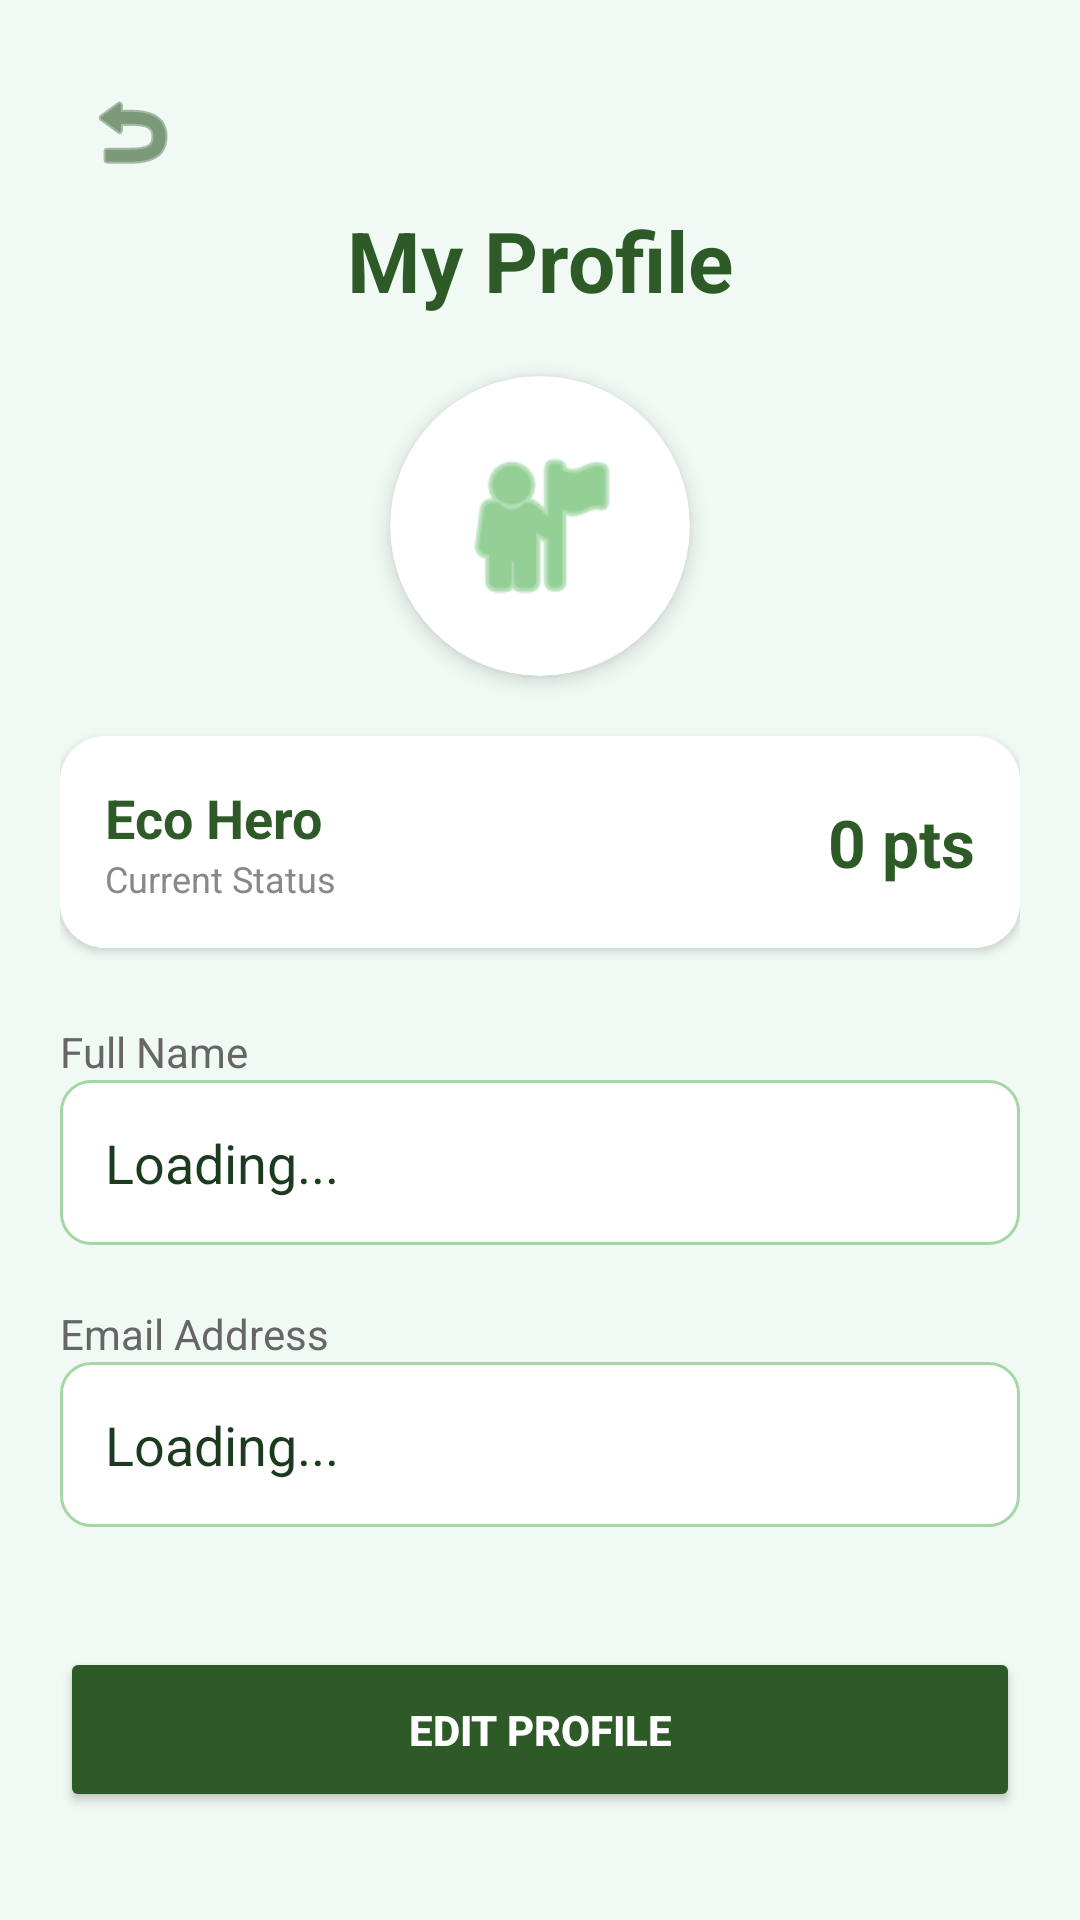

Where to tap for icons on this 1080 x 1920 app screen, as (x=x, y=y):
revert: (x=133, y=132)
